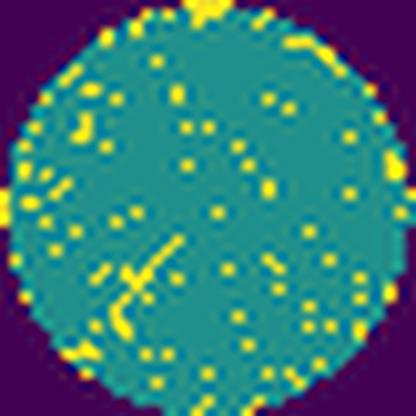Scratch: (107, 229, 188, 345)
